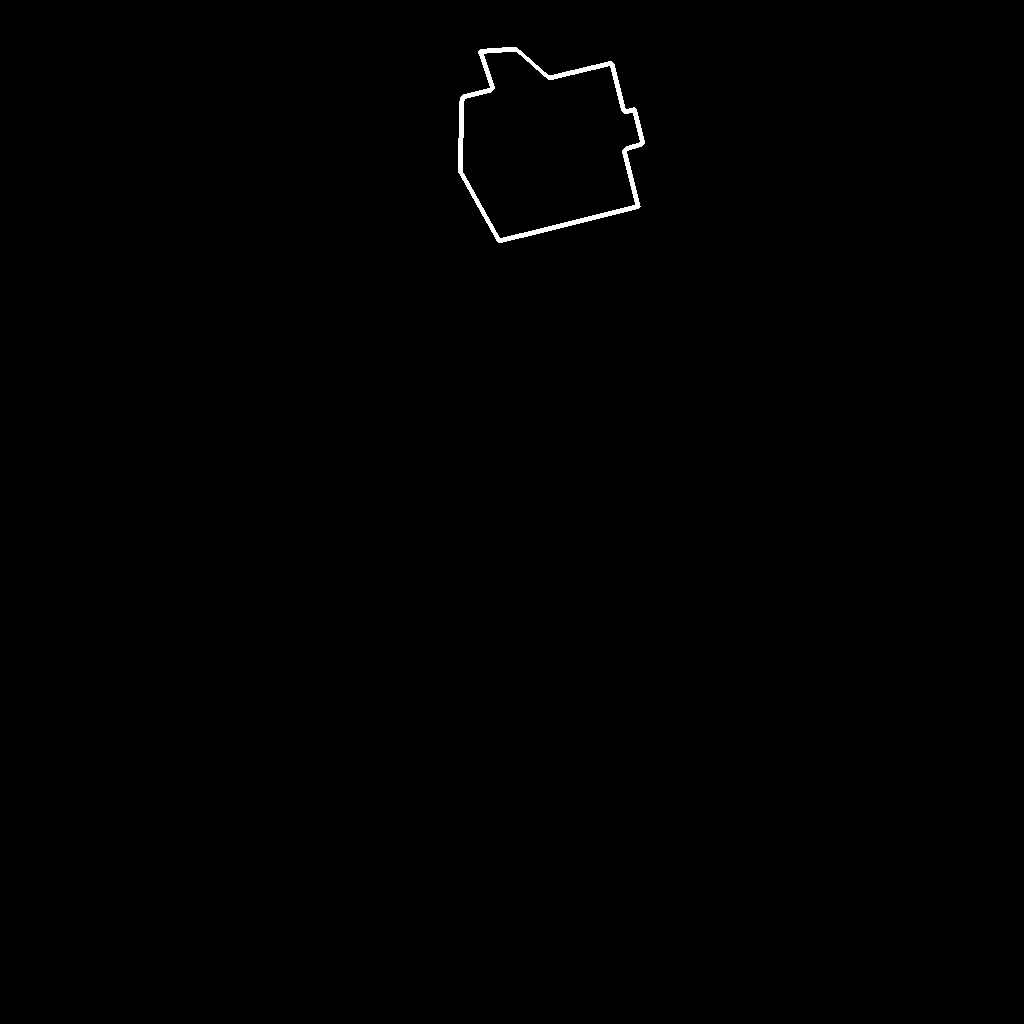building: (460, 49, 644, 242)
